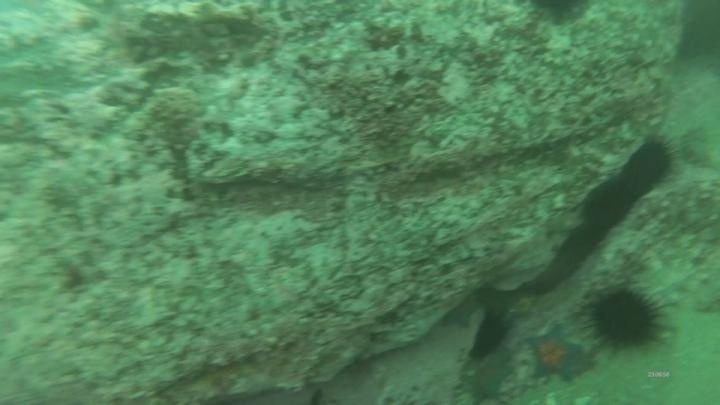echinus: (581, 280, 671, 355), (617, 134, 678, 199), (467, 308, 511, 362), (522, 1, 593, 29)
starfish: (521, 322, 590, 385), (459, 345, 517, 404)
